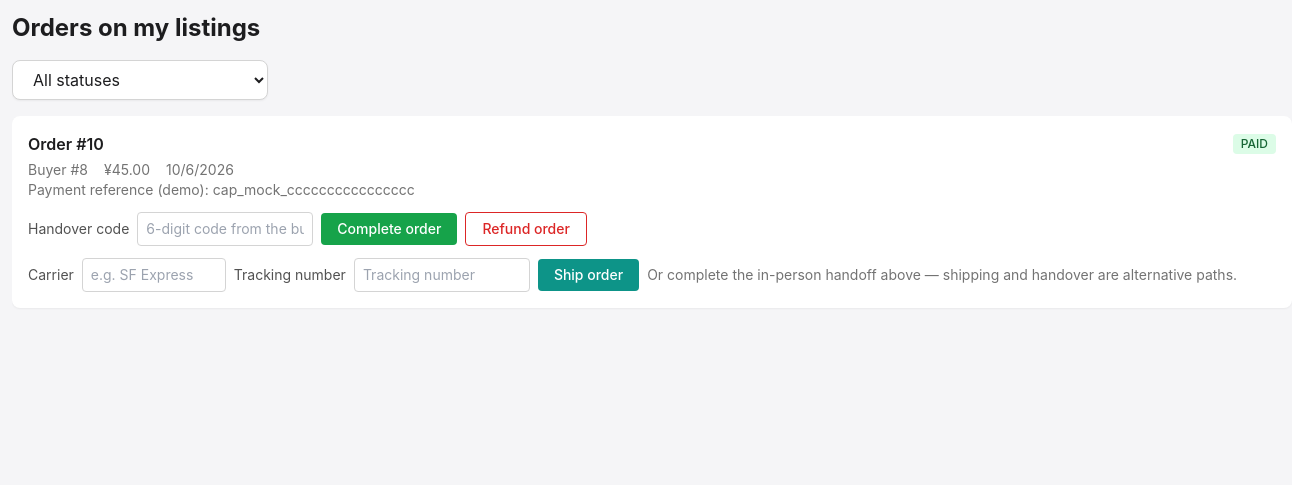
Test: SellerOrdersPage › a partial refund amount posts {amountCents} and the row shows the partially-refunded note (backlog #210)
Expected: the text "Order #10" is shown, x1=28 y1=132 x2=104 y2=156
Step 1. Click the button "Refund order" → (526, 229), box x1=465 y1=212 x2=587 y2=246
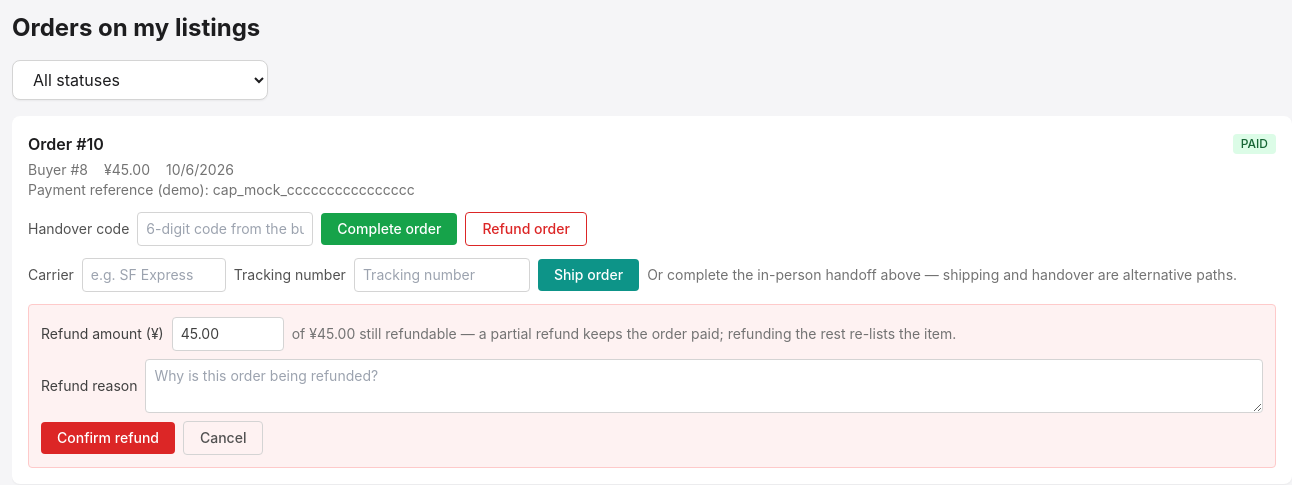
Step 2. Replace the text in the field labelled "Refund amount (¥)" with "20.00" → (228, 334), box x1=172 y1=317 x2=284 y2=351
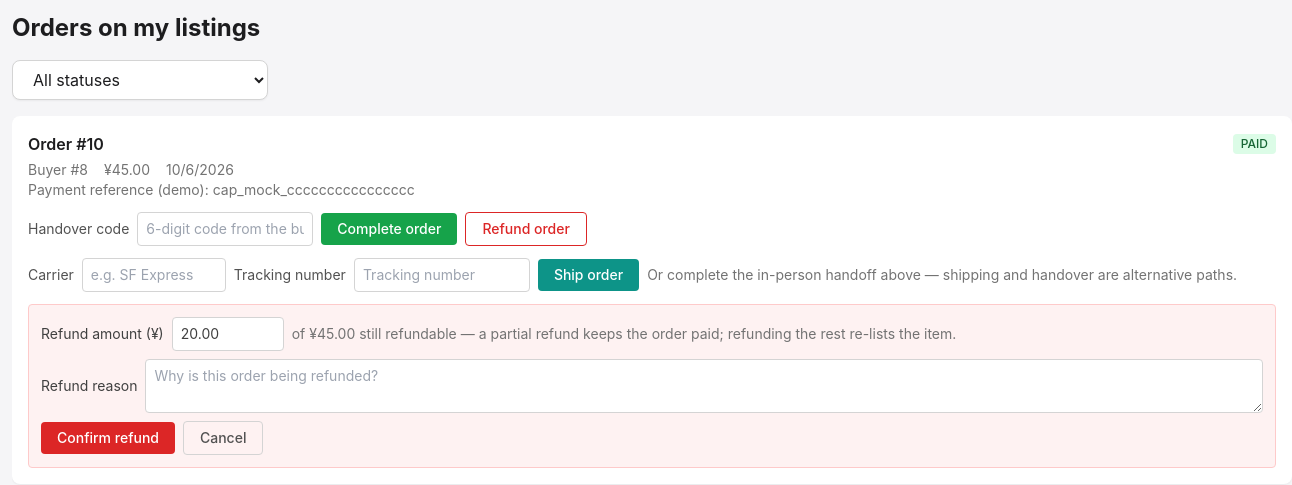
Step 3. Type "Missing accessory" into the text box labelled "Refund reason" → (704, 386), box x1=146 y1=359 x2=1263 y2=413
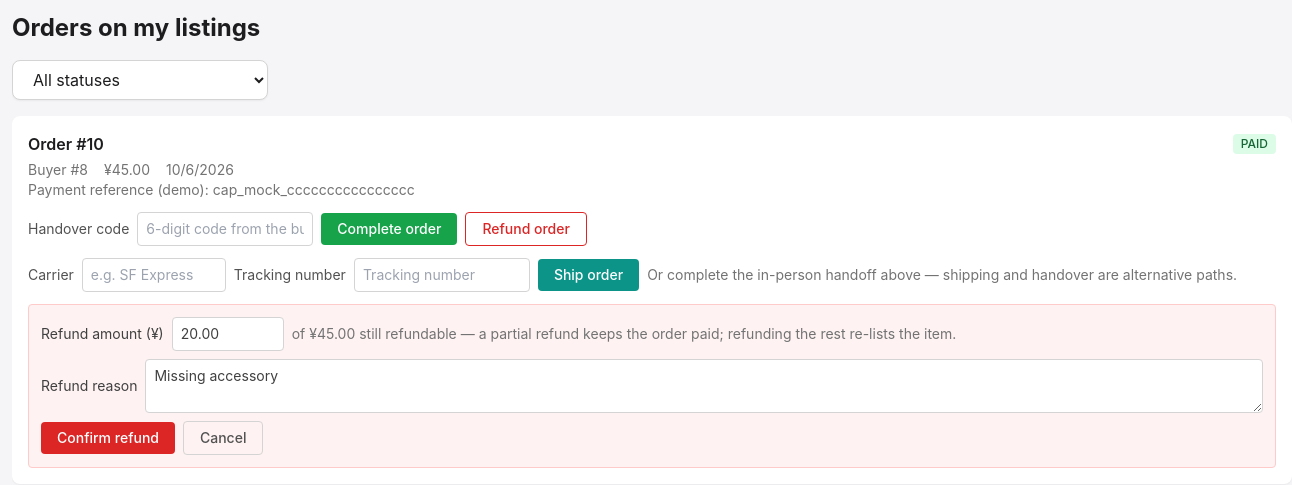
Step 4. Click the button "Confirm refund" → (108, 438), box x1=41 y1=422 x2=175 y2=454
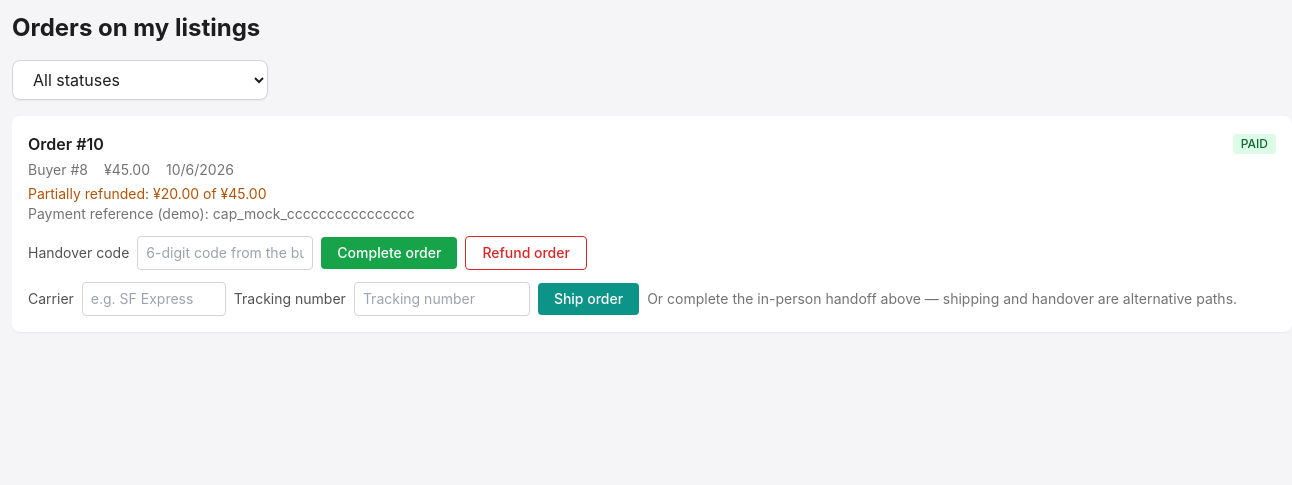
Now the text "Partially refunded: ¥20.00 of ¥45.00" is shown, box x1=28 y1=185 x2=266 y2=202
